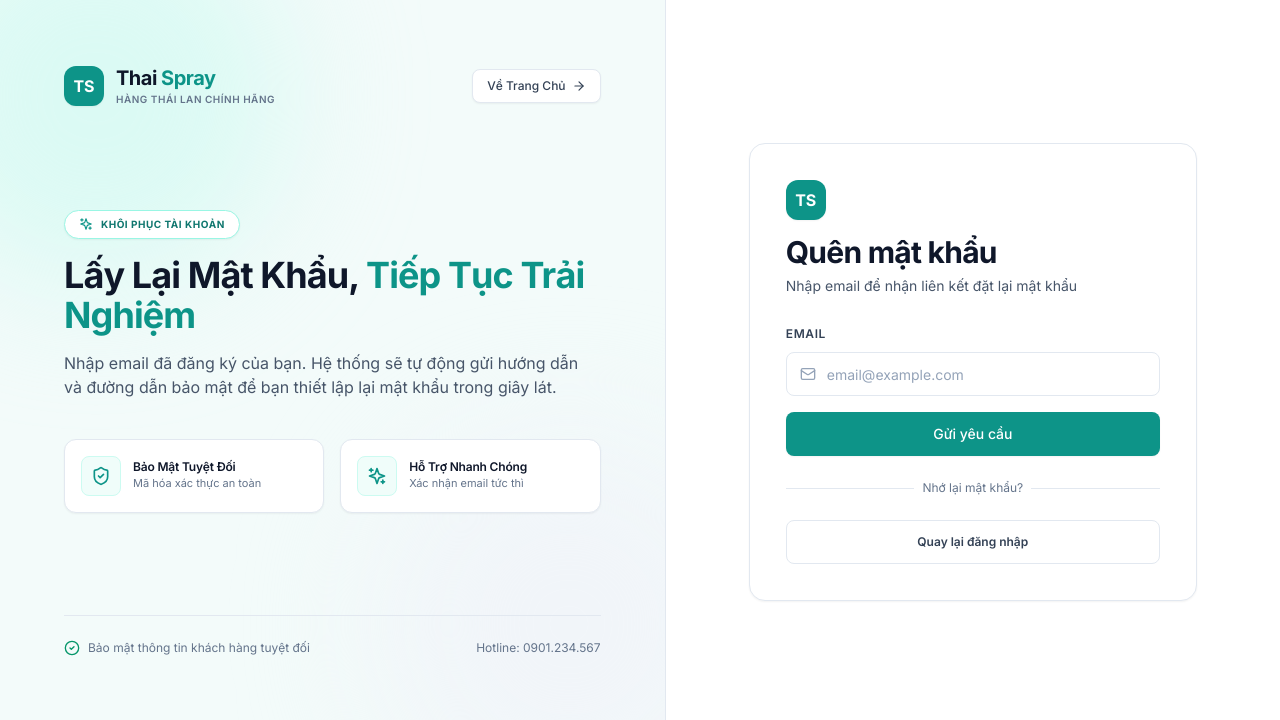
Test: ForgotPasswordPage › submits the form and displays success alert when forgotPassword succeeds
Type "user@example.com" into the field labelled "Email".
click(973, 374); type("user@example.com")  # box [786,352,1160,396]
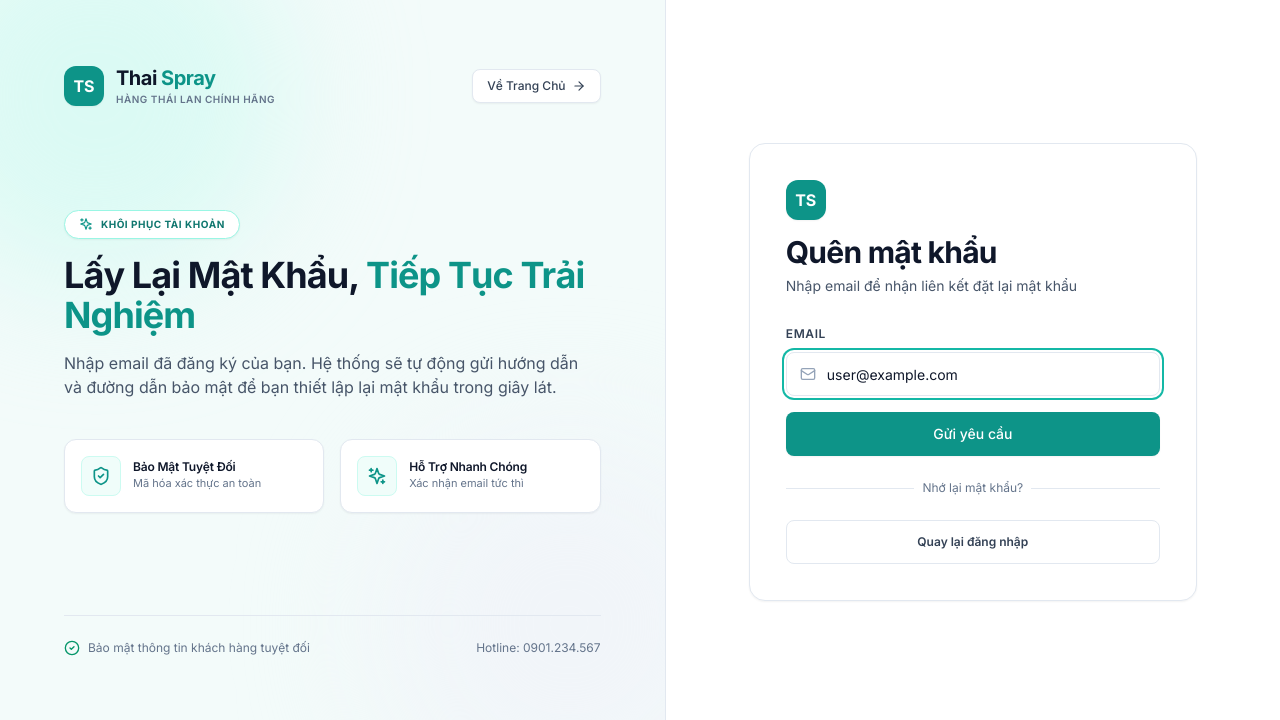
Click the button "Gửi yêu cầu".
click(973, 434)  # box [786,412,1160,456]
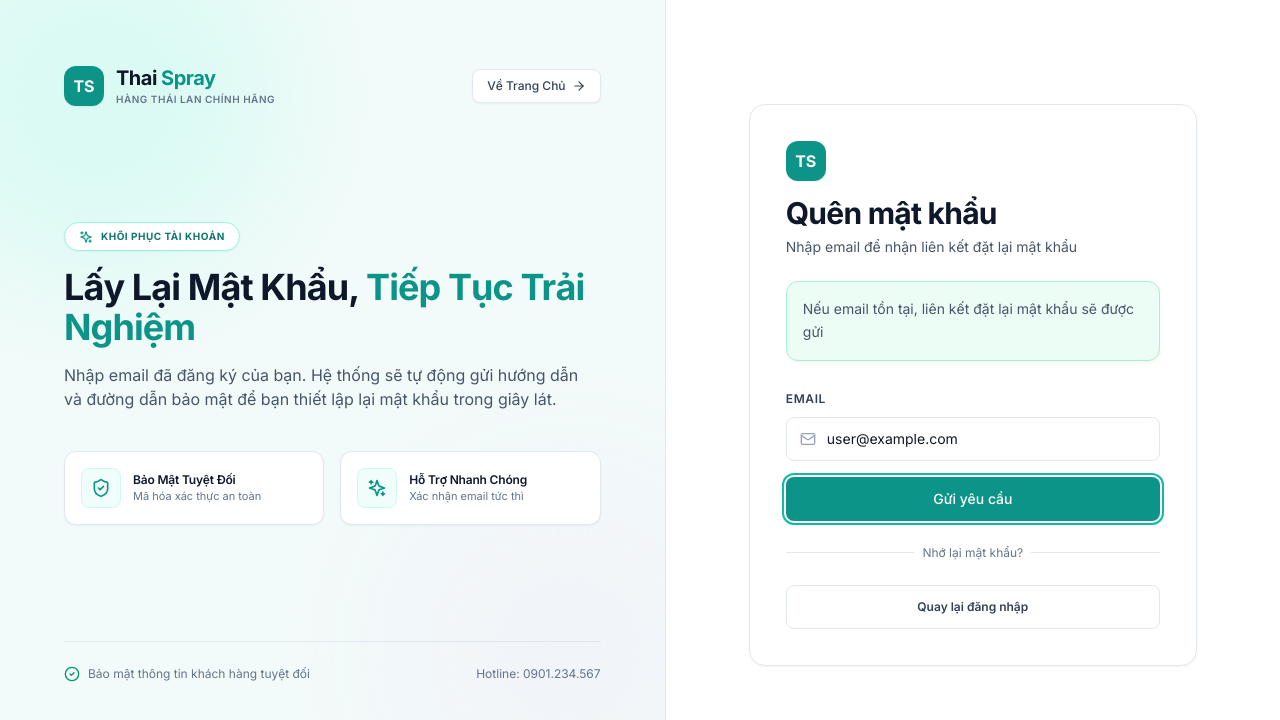
expect the text "Nếu email tồn tại, liên kết đặt lại mật khẩu sẽ được gửi" is shown: met, box [803,298,1143,344]
